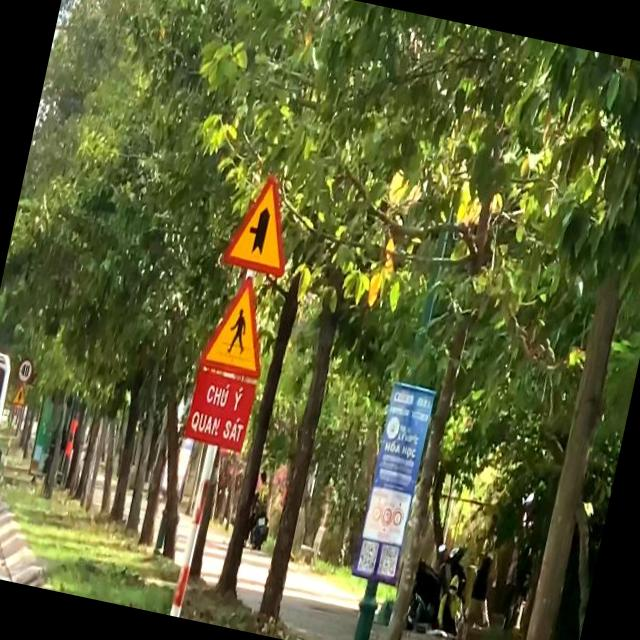W-207c: (218, 169, 302, 278)
W-224: (196, 269, 276, 381)
